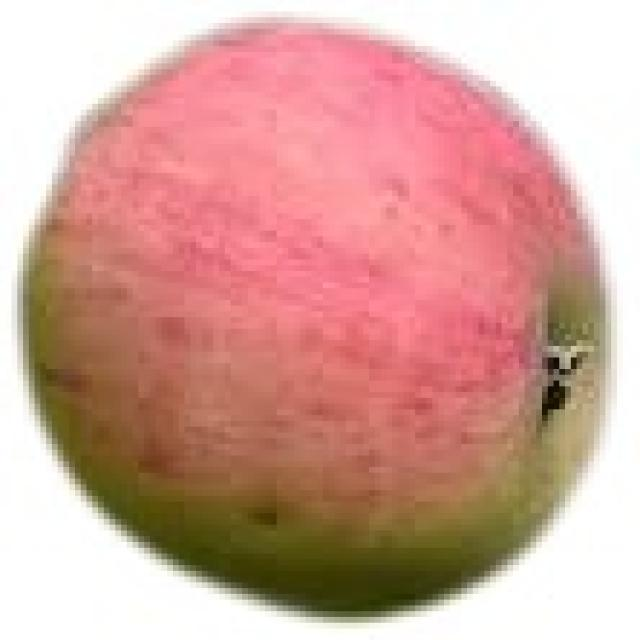75-_ripeness: (22, 21, 614, 620)
